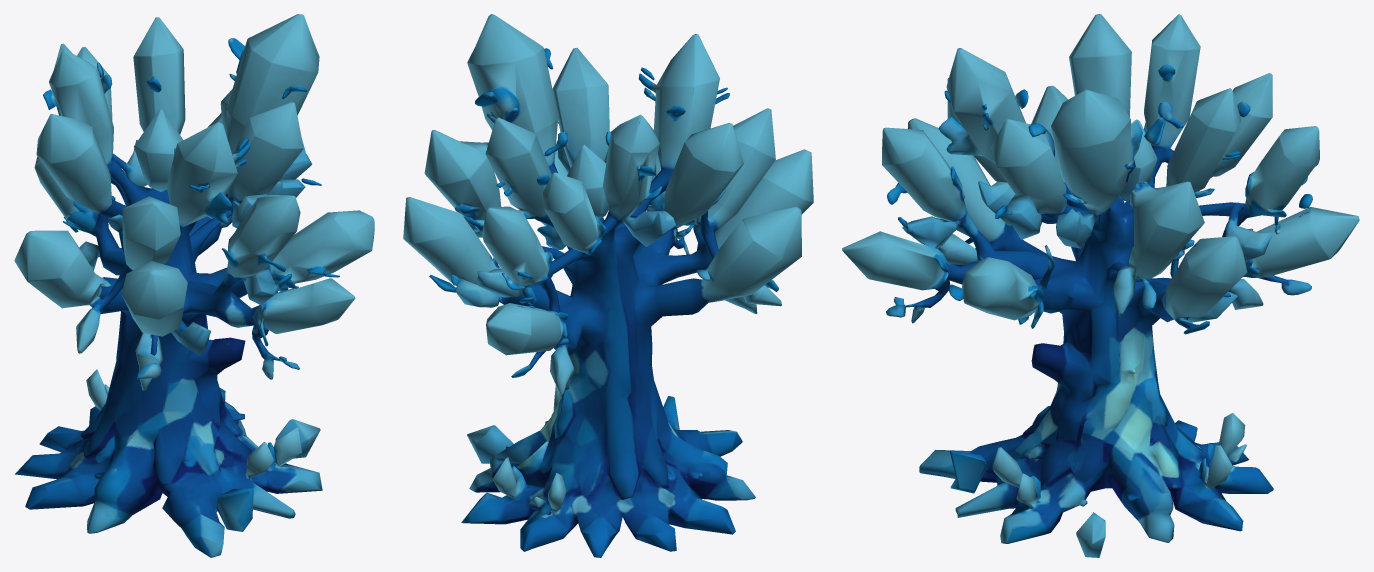
The model's file is crystal-tree-lite.glb.
3 renders of one model, left to right at view 1: azimuth 30°, elevation 25°; view 2: azimuth 150°, elevation 25°; view 3: azimuth 270°, elevation 25°, orthographic. The views are drawn at different scales.
Parts seen in each view (by area): view 1: tripo_node_b23a80ae-69db-49b1-b543-530ee2509e7f; view 2: tripo_node_b23a80ae-69db-49b1-b543-530ee2509e7f; view 3: tripo_node_b23a80ae-69db-49b1-b543-530ee2509e7f.
Part boxes in pixels (x1,y1,x2,y2): tripo_node_b23a80ae-69db-49b1-b543-530ee2509e7f: (14, 14, 374, 557); tripo_node_b23a80ae-69db-49b1-b543-530ee2509e7f: (403, 14, 813, 557); tripo_node_b23a80ae-69db-49b1-b543-530ee2509e7f: (842, 14, 1359, 557).
Bounding box in the file's own units: 0.7378 × 0.9922 × 1.
Materials: 1 (1 with a texture image).
